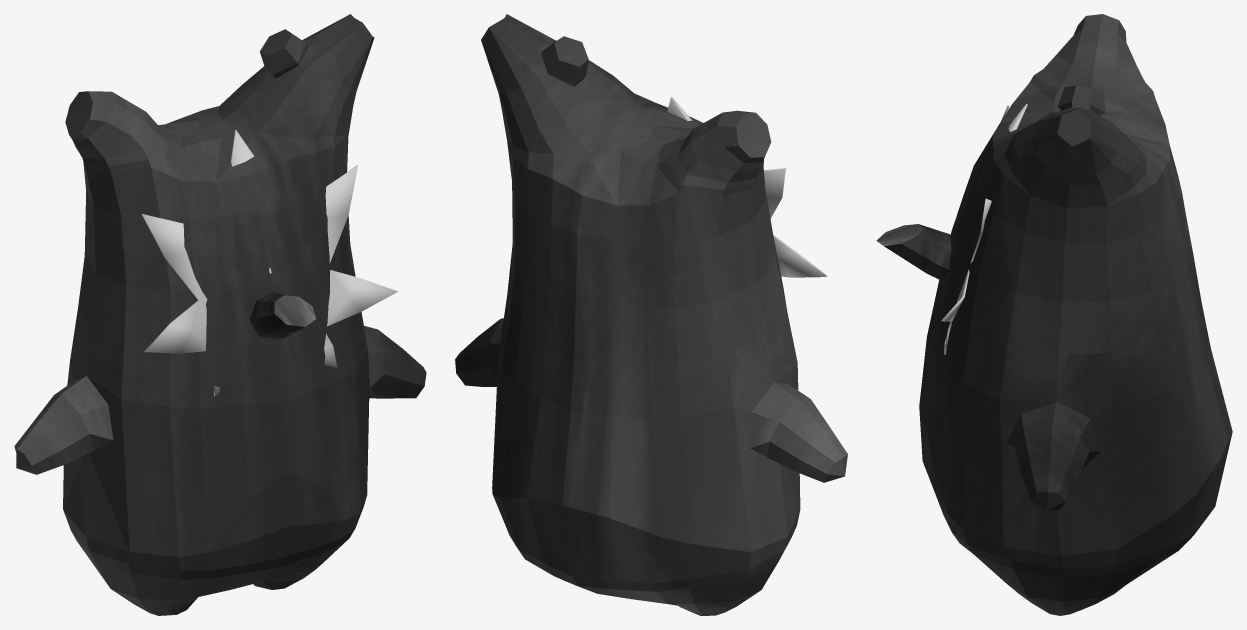
File: frame_0152.obj
3 views of the same model, side by side, from view 1: azimuth 30°, elevation 25°; view 2: azimuth 150°, elevation 25°; view 3: azimuth 270°, elevation 25° (orthographic). The views are drawn at different scales.
Parts seen in each view (by area): view 1: korok, leaf, nose; view 2: korok, leaf; view 3: korok, nose, leaf.
Boxes of the visible parts, box(x1,y1,x2,y2) form: korok: box(14, 14, 426, 615); leaf: box(141, 129, 397, 396); nose: box(249, 292, 315, 339); korok: box(455, 14, 847, 615); leaf: box(667, 96, 826, 277); korok: box(919, 14, 1232, 615); nose: box(876, 224, 951, 281); leaf: box(941, 104, 1027, 354).
Size of the model in its own units: 1.69 by 2.23 by 1.33.
